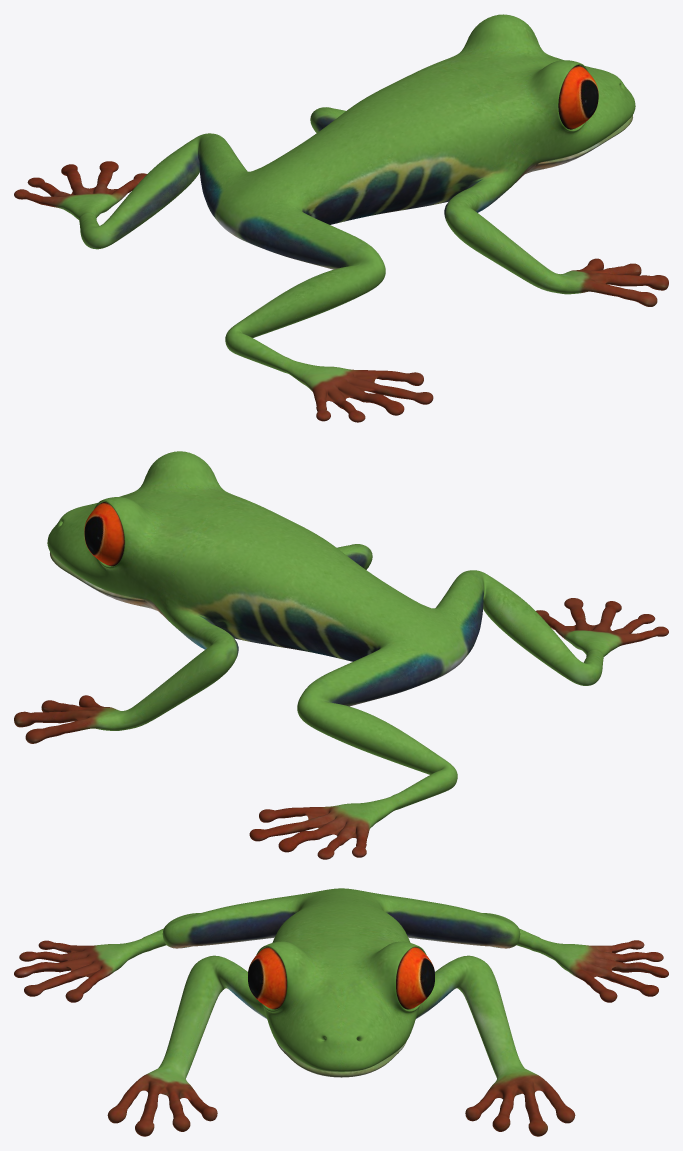
File: frog.obj
The picture shows the model from 3 angles, top to bottom: view 1: azimuth 30°, elevation 25°; view 2: azimuth 150°, elevation 25°; view 3: azimuth 270°, elevation 25°; orthographic projection. The views are drawn at different scales.
Visible parts, largest first — view 1: frog; view 2: frog; view 3: frog.
Boxes of the visible parts, x1,y1,x2,y2 form: frog: (14, 14, 668, 422); frog: (14, 451, 668, 859); frog: (14, 888, 668, 1136).
Size of the model in its own units: 9.26 by 3.41 by 11.37.
Materials: 1 (1 with a texture image).
